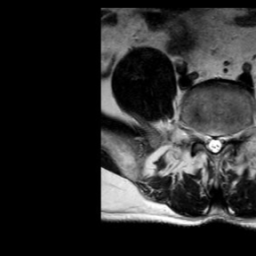CCS_stenosis: (211, 126, 218, 160)
LFS_normal: (226, 123, 234, 149)
LLS_normal: (218, 126, 226, 155)
RFS_normal: (195, 121, 203, 148)
RLS_normal: (203, 125, 211, 156)
